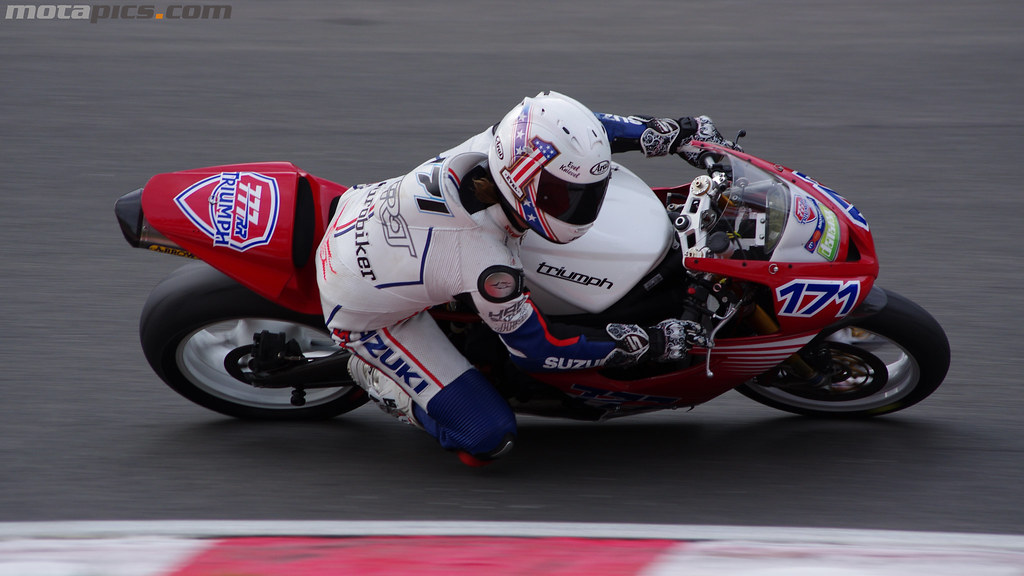helmet: (496, 87, 612, 265)
